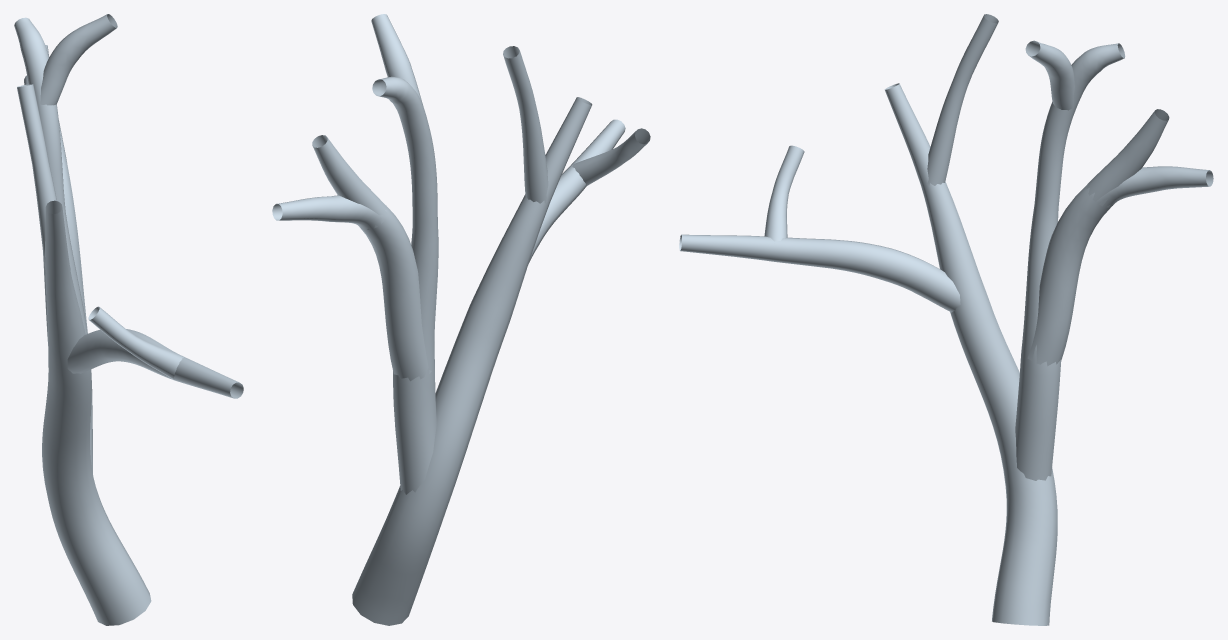
Rendered from visceras-apical-segmental-bronchus-of-right-lung-bi.glb.
The picture shows the model from 3 angles, left to right: view 1: azimuth 30°, elevation 25°; view 2: azimuth 150°, elevation 25°; view 3: azimuth 270°, elevation 25°; orthographic projection. The views are drawn at different scales.
Visible parts, largest first — view 1: Apical segmental bronchus of right lung (BI); view 2: Apical segmental bronchus of right lung (BI); view 3: Apical segmental bronchus of right lung (BI).
Part boxes in pixels (x1,y1,x2,y2): Apical segmental bronchus of right lung (BI): (14, 14, 243, 625); Apical segmental bronchus of right lung (BI): (272, 14, 650, 625); Apical segmental bronchus of right lung (BI): (679, 14, 1213, 625).
Bounding box in the file's own units: 0.0234 × 0.0777 × 0.0639.
